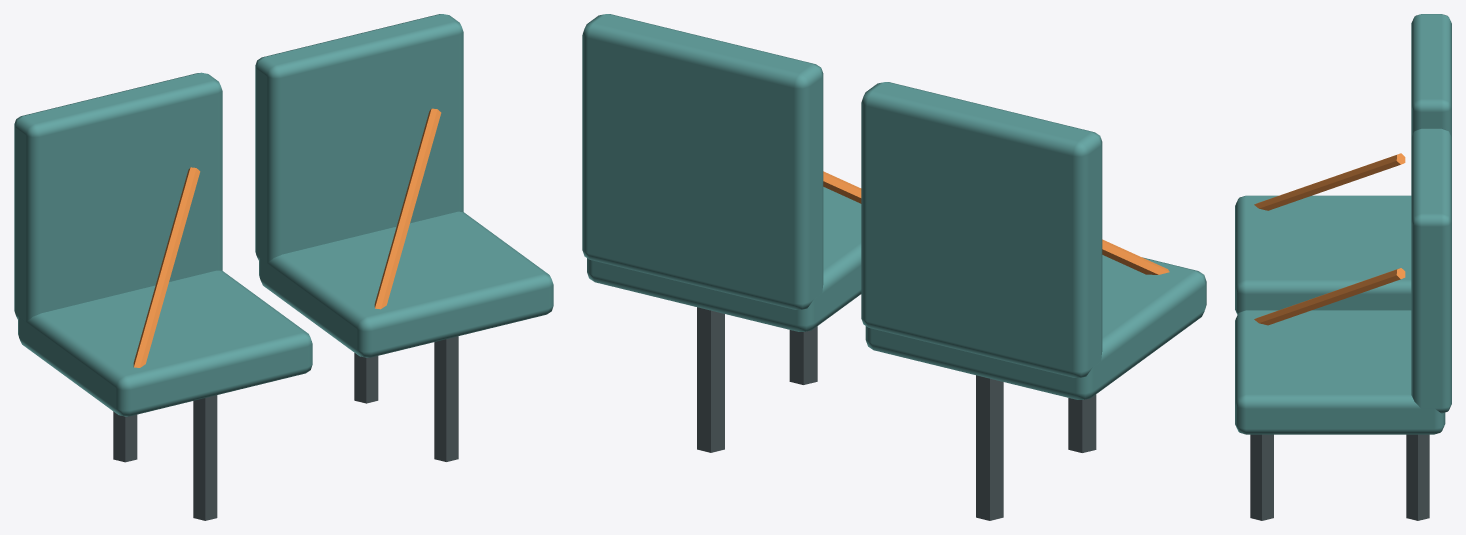
The model's file is castaway-island-escape-aircraft-seat-row-88a59523__28052.glb.
The picture shows the model from 3 angles, left to right: view 1: azimuth 30°, elevation 25°; view 2: azimuth 150°, elevation 25°; view 3: azimuth 270°, elevation 25°; orthographic projection. The views are drawn at different scales.
Visible parts, largest first — view 1: aircraft-seat-row-teal, aircraft-seat-row-iron, aircraft-seat-row-orange; view 2: aircraft-seat-row-teal, aircraft-seat-row-iron, aircraft-seat-row-orange; view 3: aircraft-seat-row-teal, aircraft-seat-row-iron, aircraft-seat-row-orange.
Boxes of the visible parts, x1,y1,x2,y2 form: aircraft-seat-row-teal: [14, 14, 553, 416]; aircraft-seat-row-iron: [113, 336, 458, 520]; aircraft-seat-row-orange: [133, 108, 441, 367]; aircraft-seat-row-teal: [582, 14, 1206, 399]; aircraft-seat-row-iron: [697, 307, 1096, 520]; aircraft-seat-row-orange: [823, 171, 1169, 274]; aircraft-seat-row-teal: [1235, 14, 1451, 434]; aircraft-seat-row-iron: [1250, 434, 1429, 520]; aircraft-seat-row-orange: [1254, 153, 1405, 325].
Size of the model in its own units: 1.45 by 1.12 by 0.6399.
